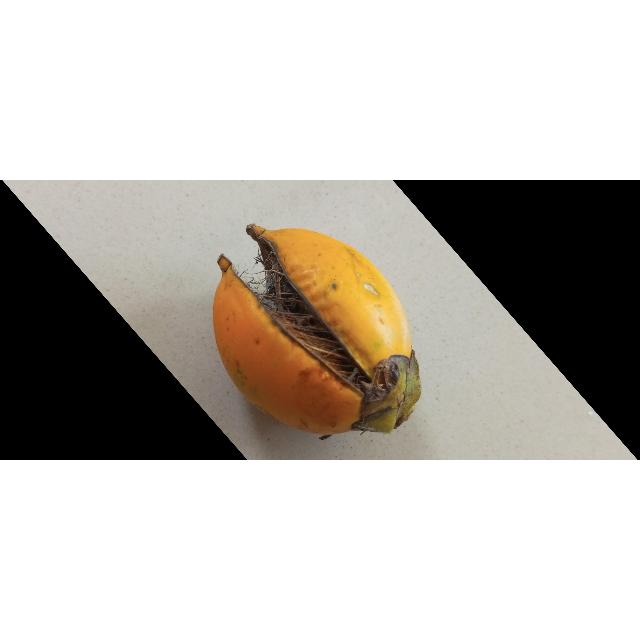damaged: (217, 225, 422, 437)
